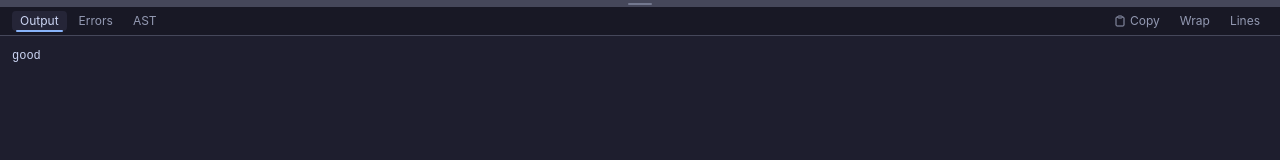
Scenario: OutputPanel › switches to errors tab when clicking Errors
Step 1. Click the tab "Errors" → [96, 21], box [71, 11, 121, 31]
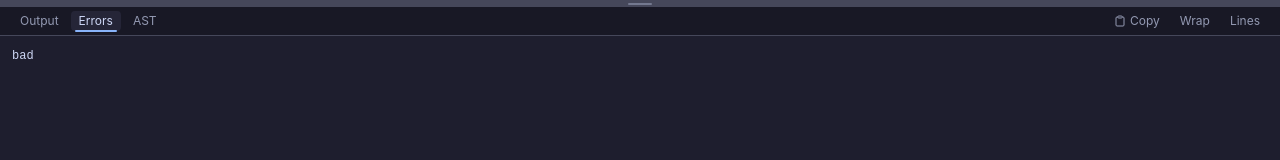
Now the text "bad" is shown, box [12, 49, 34, 63]
